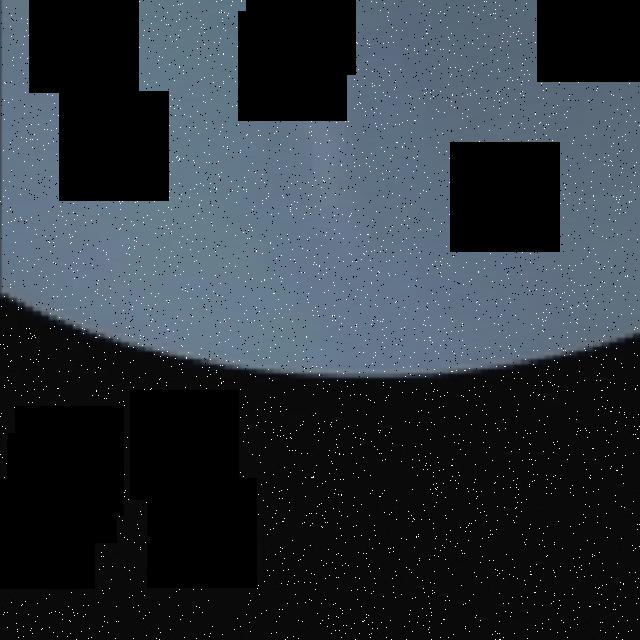Uranus: (0, 0, 640, 382)
